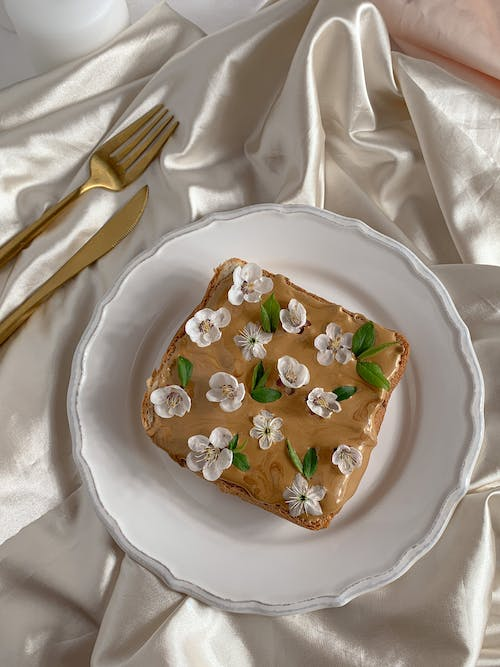knife: (0, 180, 155, 351)
